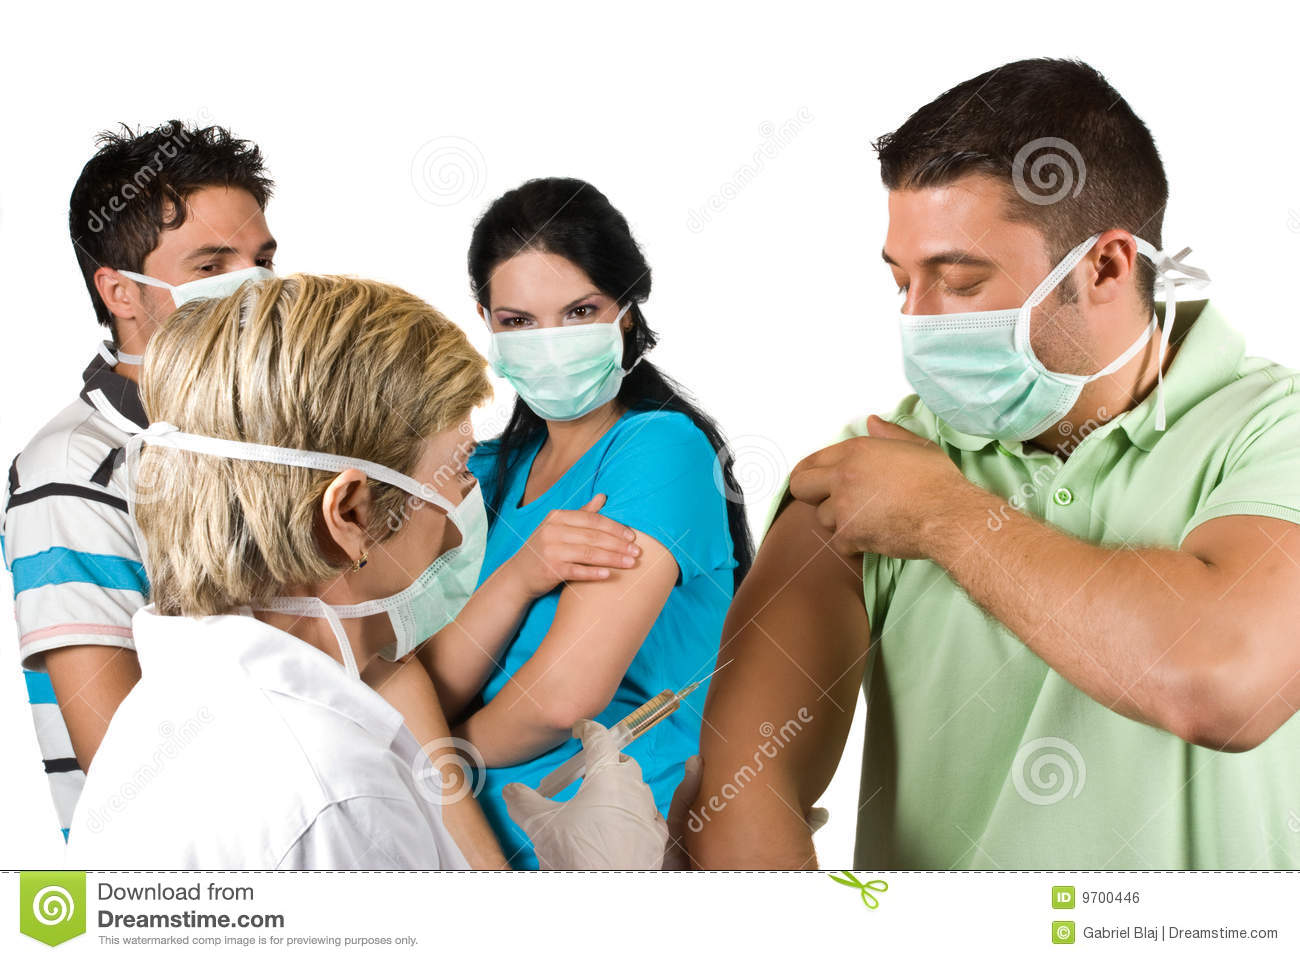mask: (900, 315, 1084, 446), (396, 489, 486, 666), (496, 327, 622, 419)
